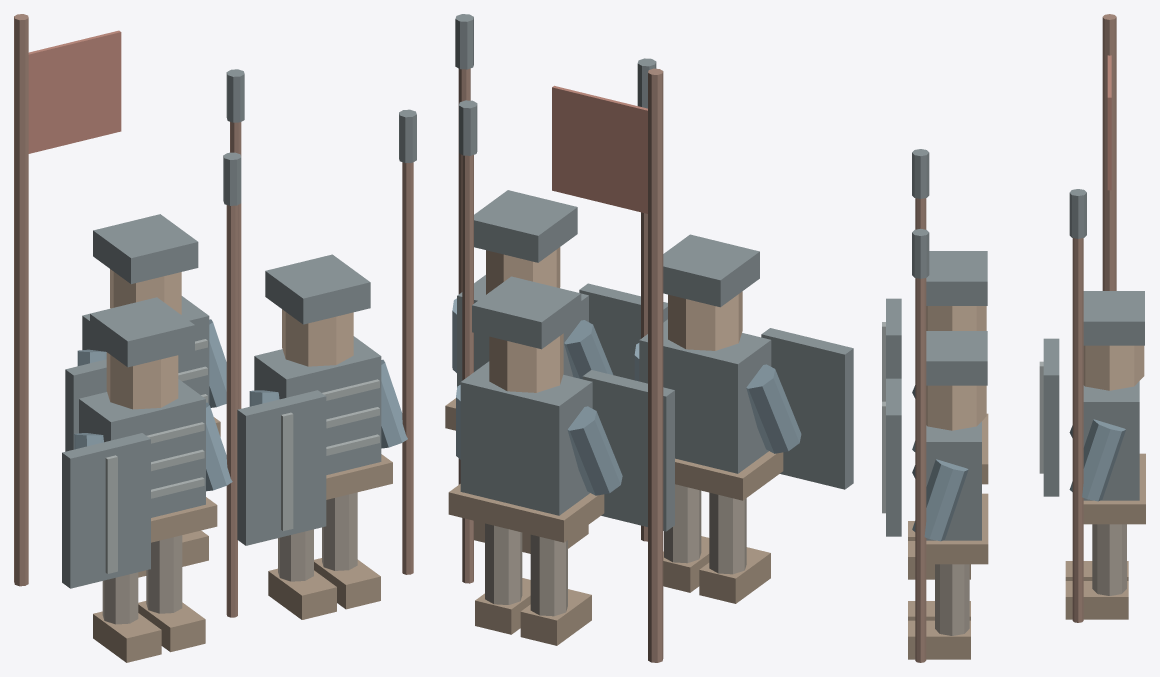
Rendered from xianzhen.glb.
3 views of the same model, side by side, from view 1: azimuth 30°, elevation 25°; view 2: azimuth 150°, elevation 25°; view 3: azimuth 270°, elevation 25° (orthographic). The views are drawn at different scales.
Size of the model in its own units: 2.49 by 3.7 by 1.68.
